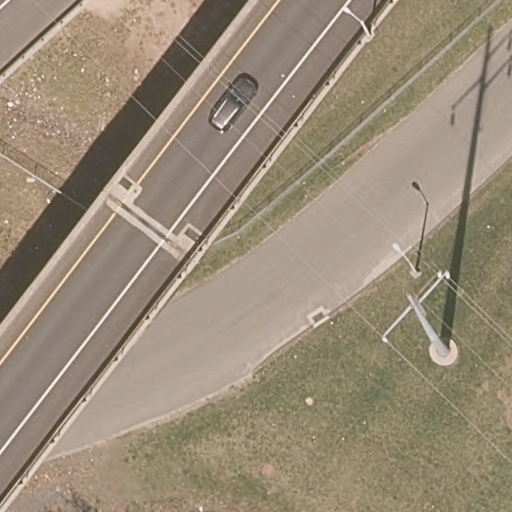DT: (379, 269, 453, 349)
